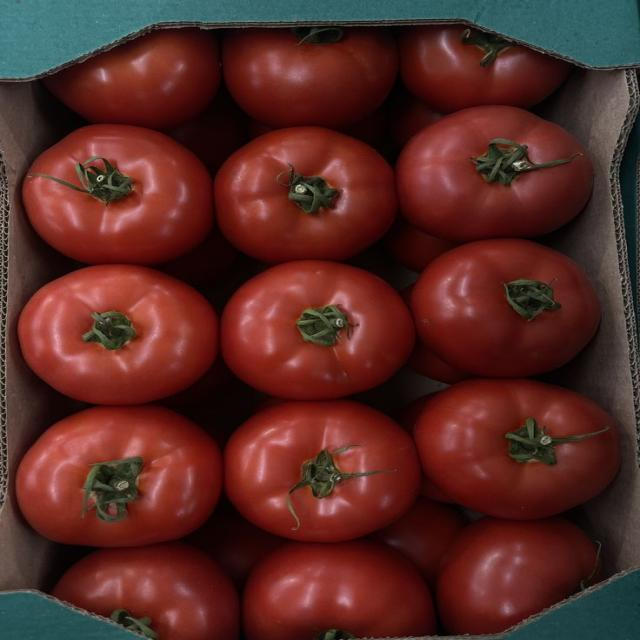tomato: (16, 405, 222, 546), (414, 379, 620, 519), (18, 265, 218, 405), (225, 400, 421, 542), (396, 106, 593, 242), (22, 124, 213, 264), (221, 261, 414, 399), (411, 239, 599, 377), (214, 127, 397, 263), (436, 518, 600, 636), (242, 540, 435, 639), (52, 542, 239, 639), (222, 27, 398, 128), (43, 29, 220, 129), (399, 25, 571, 112), (369, 496, 466, 593), (187, 502, 287, 591), (167, 88, 249, 177), (154, 225, 237, 289), (385, 217, 456, 272), (388, 84, 442, 152), (406, 340, 471, 384), (394, 392, 437, 435)
